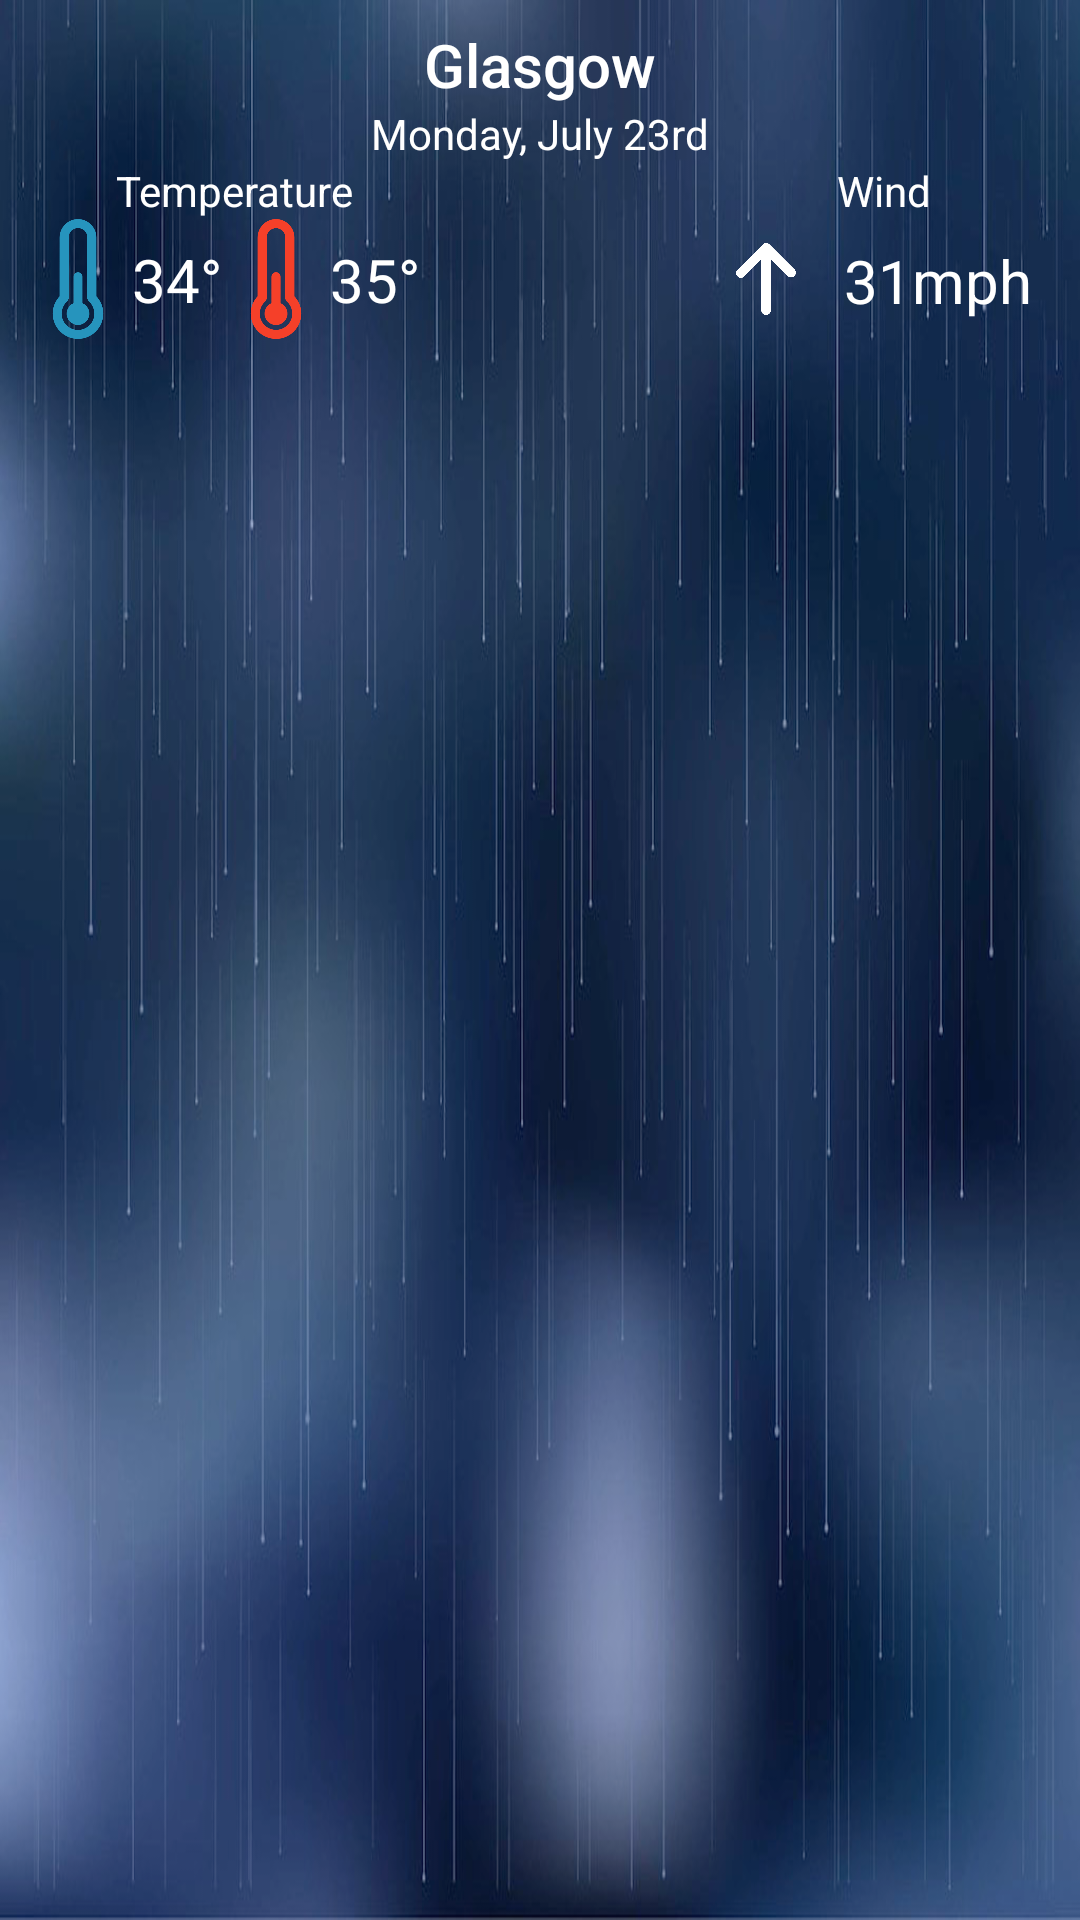

Icons on this 1080 × 1920 Android screen, each with the point to tap as (x,y):
arrow: (766,279)
coldtemp: (79,279)
hottemp: (275,279)
